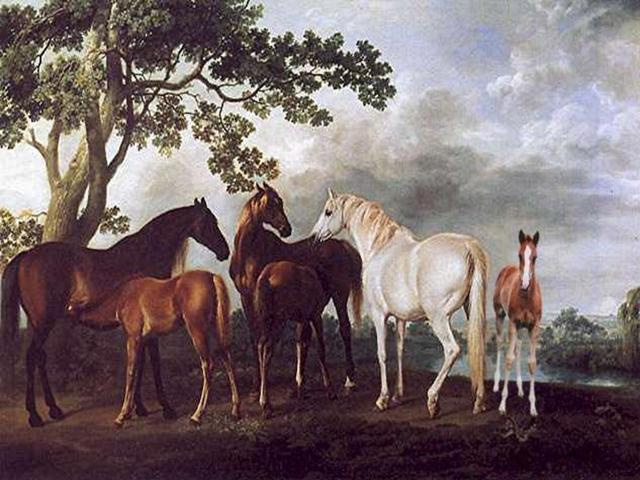horse: (3, 180, 240, 396), (309, 174, 506, 400)
